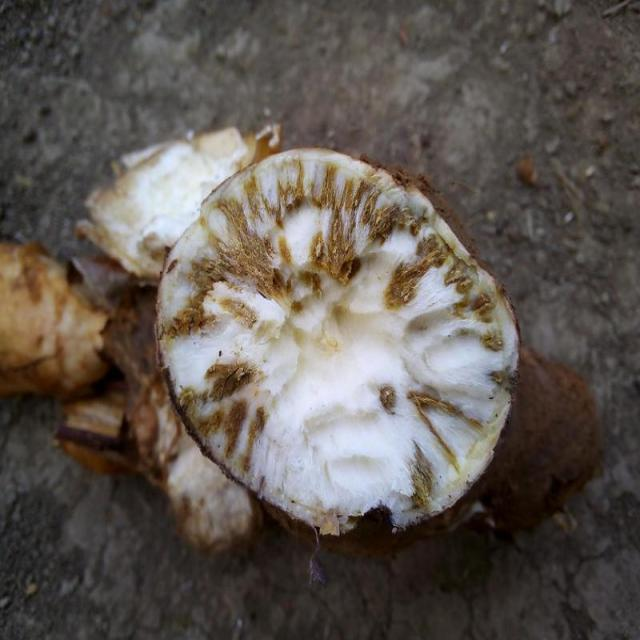cassava leaf: (153, 144, 521, 541), (76, 122, 280, 284)
